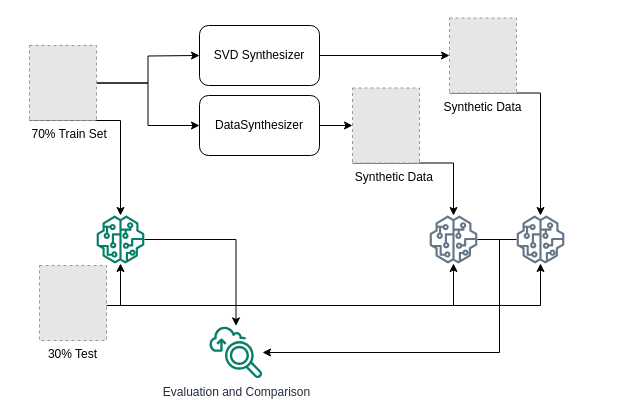
Some shapes in this 639 by 416 pixel diagram are drawn without their labels. Grey dashed boxes stand in for pictures. The centre of each missing label's shape, as x and y in pixels:
Model: point 120,239
Model DS: point 540,239
Model SVD: point 453,239
